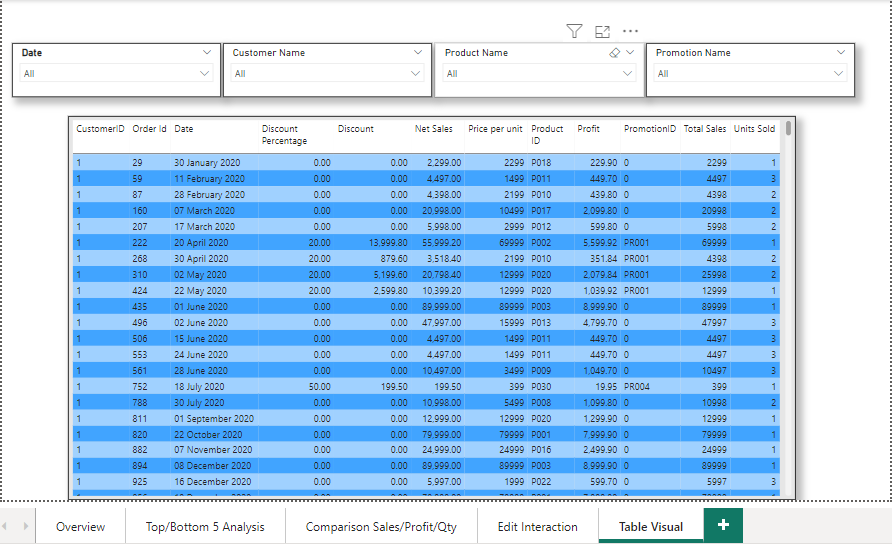

What the dashboard file says about the page in this screenshot:
{"tool":"powerbi","page":{"name":"Table Visual","canvas":[1280,720],"ordinal":4},"visuals":[{"type":"tableEx","fields":{"Values":["Fact Table.CustomerID","Fact Table.Order Id","Fact Table.Date","Fact Table.Discount Percentage","Fact Table.Discount Value","Fact Table.Net Sales","Fact Table.Price per unit","Fact Table.Product ID","Fact Table.Profit","Fact Table.PromotionID","Fact Table.Total Sales","Fact Table.Units Sold"]},"box":[0,246.2,1121.8,473.8],"z":0},{"type":"slicer","fields":{"Values":["Date Table 1.Date"]},"box":[14.4,61.9,301,77.8],"z":1000},{"type":"slicer","fields":{"Values":["Dim Customers.Customer Name"]},"box":[318.2,61.9,301,77.8],"z":1001},{"type":"slicer","fields":{"Values":["Dim Product.Product Name"]},"box":[623,61.9,301,77.8],"z":1002},{"type":"slicer","fields":{"Values":["Dim Promotion.Promotion Name"]},"box":[927.4,61.9,301,77.8],"z":1003}]}

Visuals, with their boxes on the page's 1280x720 design canvas (x1, y1, x2, y2). These are canvas units, not pixel positions in the 892x544 screenshot, which may show the page scaled, cropped or inside an application window:
tableEx - Fact Table.CustomerID x Fact Table.Order Id: [0,246,1122,720]
slicer - Date Table 1.Date: [14,62,315,140]
slicer - Dim Customers.Customer Name: [318,62,619,140]
slicer - Dim Product.Product Name: [623,62,924,140]
slicer - Dim Promotion.Promotion Name: [927,62,1228,140]
